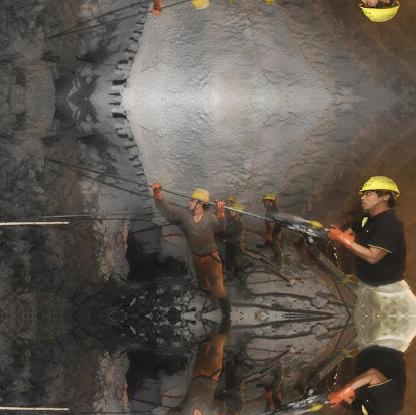Safety Helmet: (351, 172, 405, 225), (356, 1, 406, 25), (185, 187, 213, 219)
